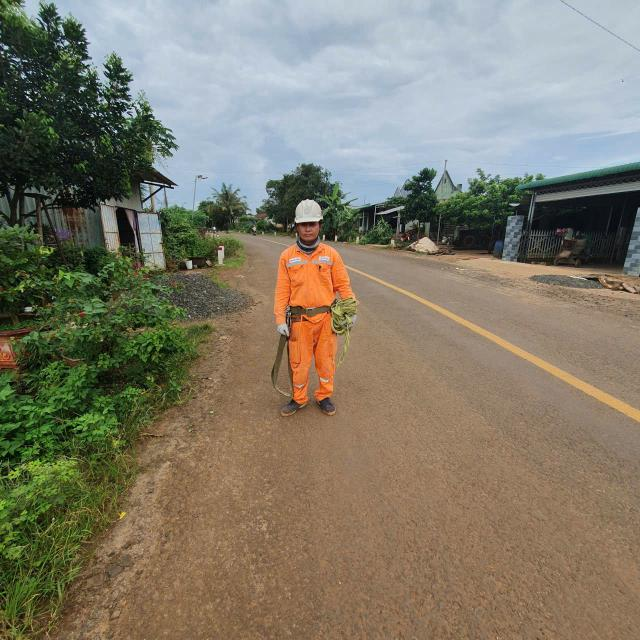harness: (273, 300, 344, 326)
shoes: (270, 391, 302, 418), (311, 394, 344, 418)
